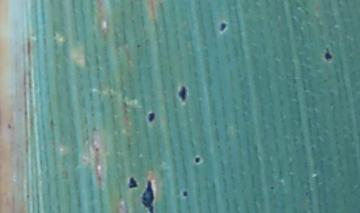tarspot: (138, 178, 156, 213), (176, 85, 188, 103), (126, 175, 138, 189), (322, 47, 333, 62), (146, 111, 157, 123), (217, 22, 227, 33), (192, 156, 202, 164), (5, 122, 14, 130), (181, 190, 189, 198), (135, 43, 143, 50), (268, 184, 275, 190)
